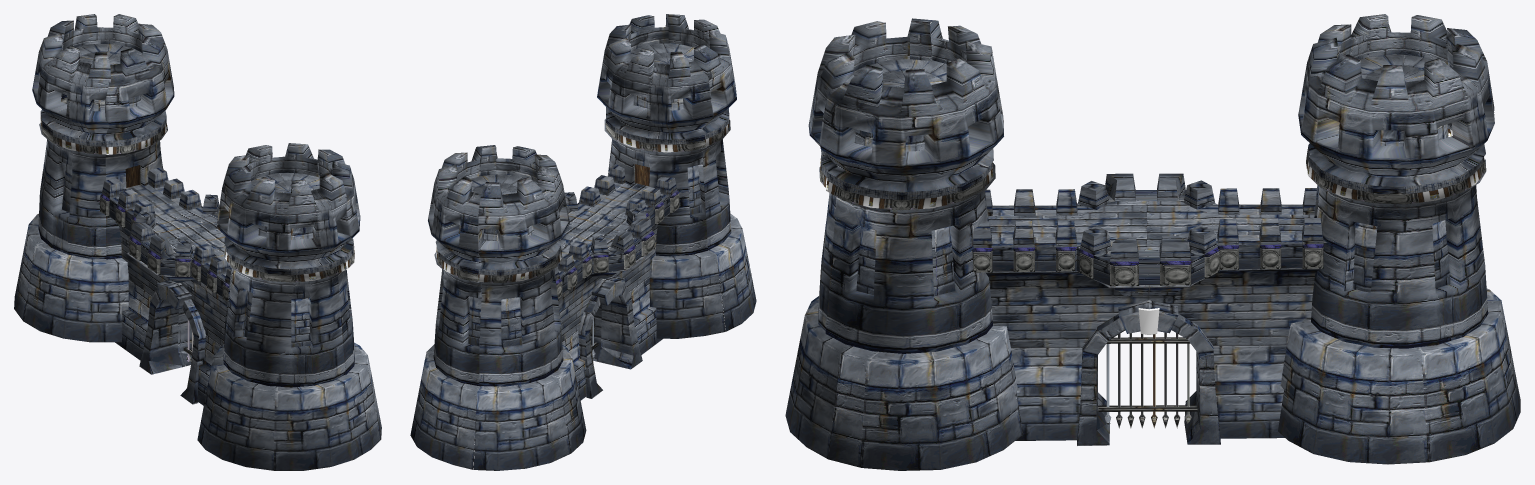
The model's file is gate.obj.
3 views of the same model, side by side, from view 1: azimuth 30°, elevation 25°; view 2: azimuth 150°, elevation 25°; view 3: azimuth 270°, elevation 25° (orthographic). The views are drawn at different scales.
Visible parts, largest first — view 1: Mesh; view 2: Mesh; view 3: Mesh.
Boxes of the visible parts, left/top/right/bottom form: Mesh: left=14, top=14, right=381, bottom=470; Mesh: left=410, top=14, right=756, bottom=470; Mesh: left=785, top=14, right=1520, bottom=470.
Size of the model in its own units: 6.51 by 10.53 by 18.34.
Materials: 1 (1 with a texture image).
